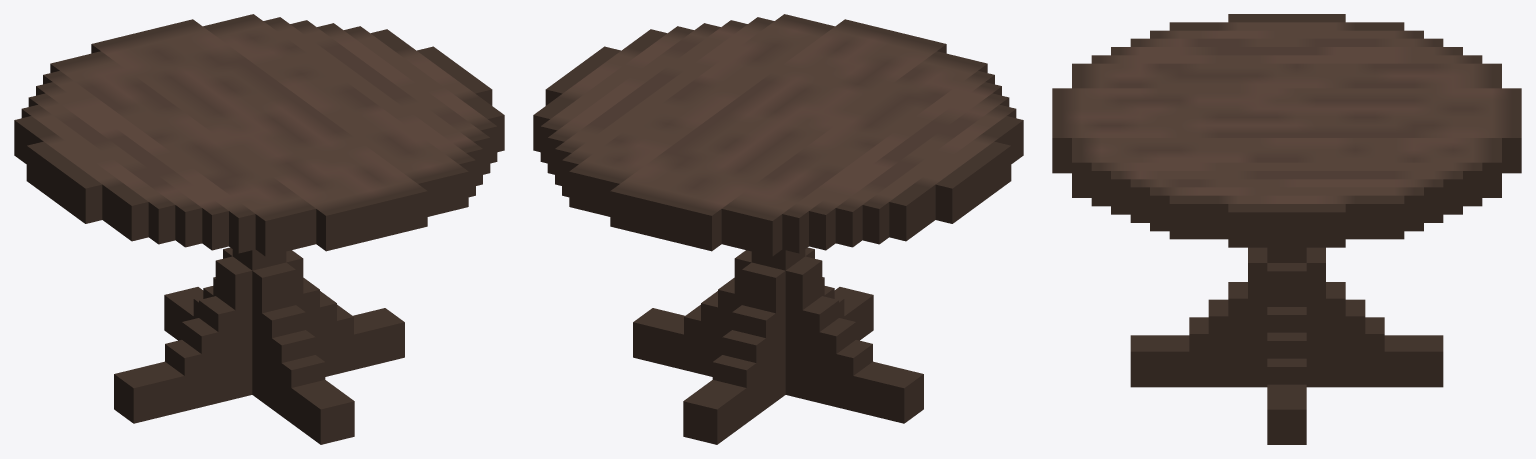
The model's file is Table_Round_00.fbx.
The picture shows the model from 3 angles, left to right: view 1: azimuth 30°, elevation 25°; view 2: azimuth 150°, elevation 25°; view 3: azimuth 270°, elevation 25°; orthographic projection.
Visible parts, largest first — view 1: Table_Round_00; view 2: Table_Round_00; view 3: Table_Round_00.
Part boxes in pixels (x1,y1,x2,y2): Table_Round_00: [14, 14, 504, 444]; Table_Round_00: [533, 14, 1023, 444]; Table_Round_00: [1052, 14, 1521, 444].
Bounding box in the file's own units: 120 × 75 × 120.
